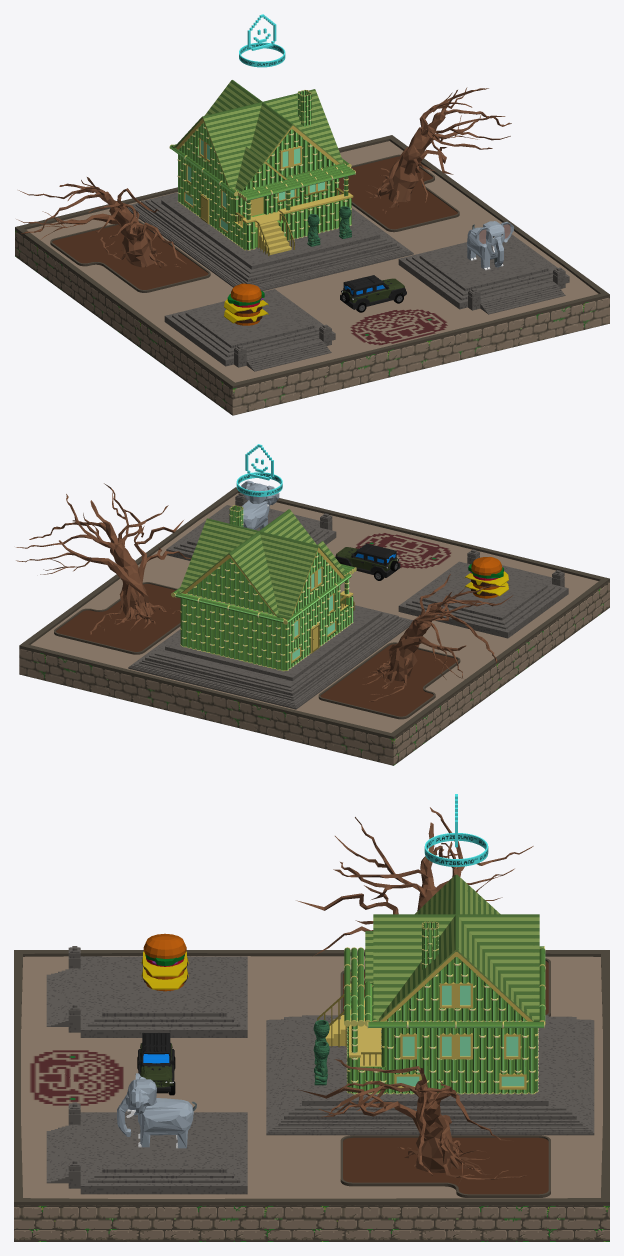
3 views of the same model, one above another, from view 1: azimuth 30°, elevation 25°; view 2: azimuth 150°, elevation 25°; view 3: azimuth 270°, elevation 25° (orthographic). The views are drawn at different scales.
Visible parts, largest first — view 1: Cube.011, Cube.1327, VEHICLES_JEEP, ANIMAL_ELEFANTE, OBJRANDOM_HAMBURGER, TYPE_PREMIUM; view 2: Cube.011, Cube.1327, VEHICLES_JEEP, OBJRANDOM_HAMBURGER, ANIMAL_ELEFANTE, TYPE_PREMIUM; view 3: Cube.011, Cube.1327, ANIMAL_ELEFANTE, OBJRANDOM_HAMBURGER, VEHICLES_JEEP, TYPE_PREMIUM.
Boxes of the visible parts, left/top/right/bottom form: Cube.011: left=15, top=87, right=609, bottom=415; Cube.1327: left=169, top=80, right=355, bottom=256; VEHICLES_JEEP: left=340, top=275, right=406, bottom=312; ANIMAL_ELEFANTE: left=467, top=221, right=513, bottom=270; OBJRANDOM_HAMBURGER: left=224, top=283, right=268, bottom=325; TYPE_PREMIUM: left=239, top=14, right=285, bottom=67; Cube.011: left=16, top=483, right=609, bottom=765; Cube.1327: left=171, top=505, right=356, bottom=671; VEHICLES_JEEP: left=335, top=543, right=400, bottom=580; OBJRANDOM_HAMBURGER: left=464, top=557, right=508, bottom=598; ANIMAL_ELEFANTE: left=237, top=480, right=279, bottom=529; TYPE_PREMIUM: left=236, top=444, right=282, bottom=496; Cube.011: left=14, top=807, right=609, bottom=1241; Cube.1327: left=317, top=874, right=545, bottom=1094; ANIMAL_ELEFANTE: left=117, top=1073, right=196, bottom=1148; OBJRANDOM_HAMBURGER: left=141, top=933, right=188, bottom=991; VEHICLES_JEEP: left=137, top=1033, right=175, bottom=1095; TYPE_PREMIUM: left=424, top=794, right=488, bottom=866.
Size of the model in its own units: 5099 by 2467 by 4000.
Materials: 40 (7 with a texture image).
